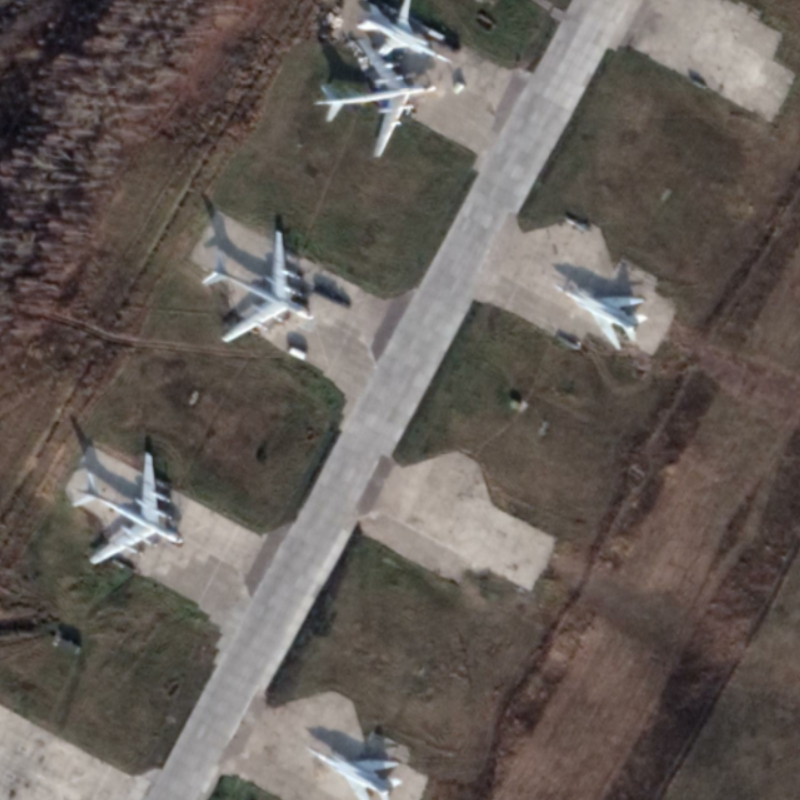A12: (553, 283, 650, 352), (355, 1, 454, 65), (307, 746, 404, 800)
A17: (312, 35, 440, 160), (199, 228, 316, 345), (69, 450, 186, 566)
